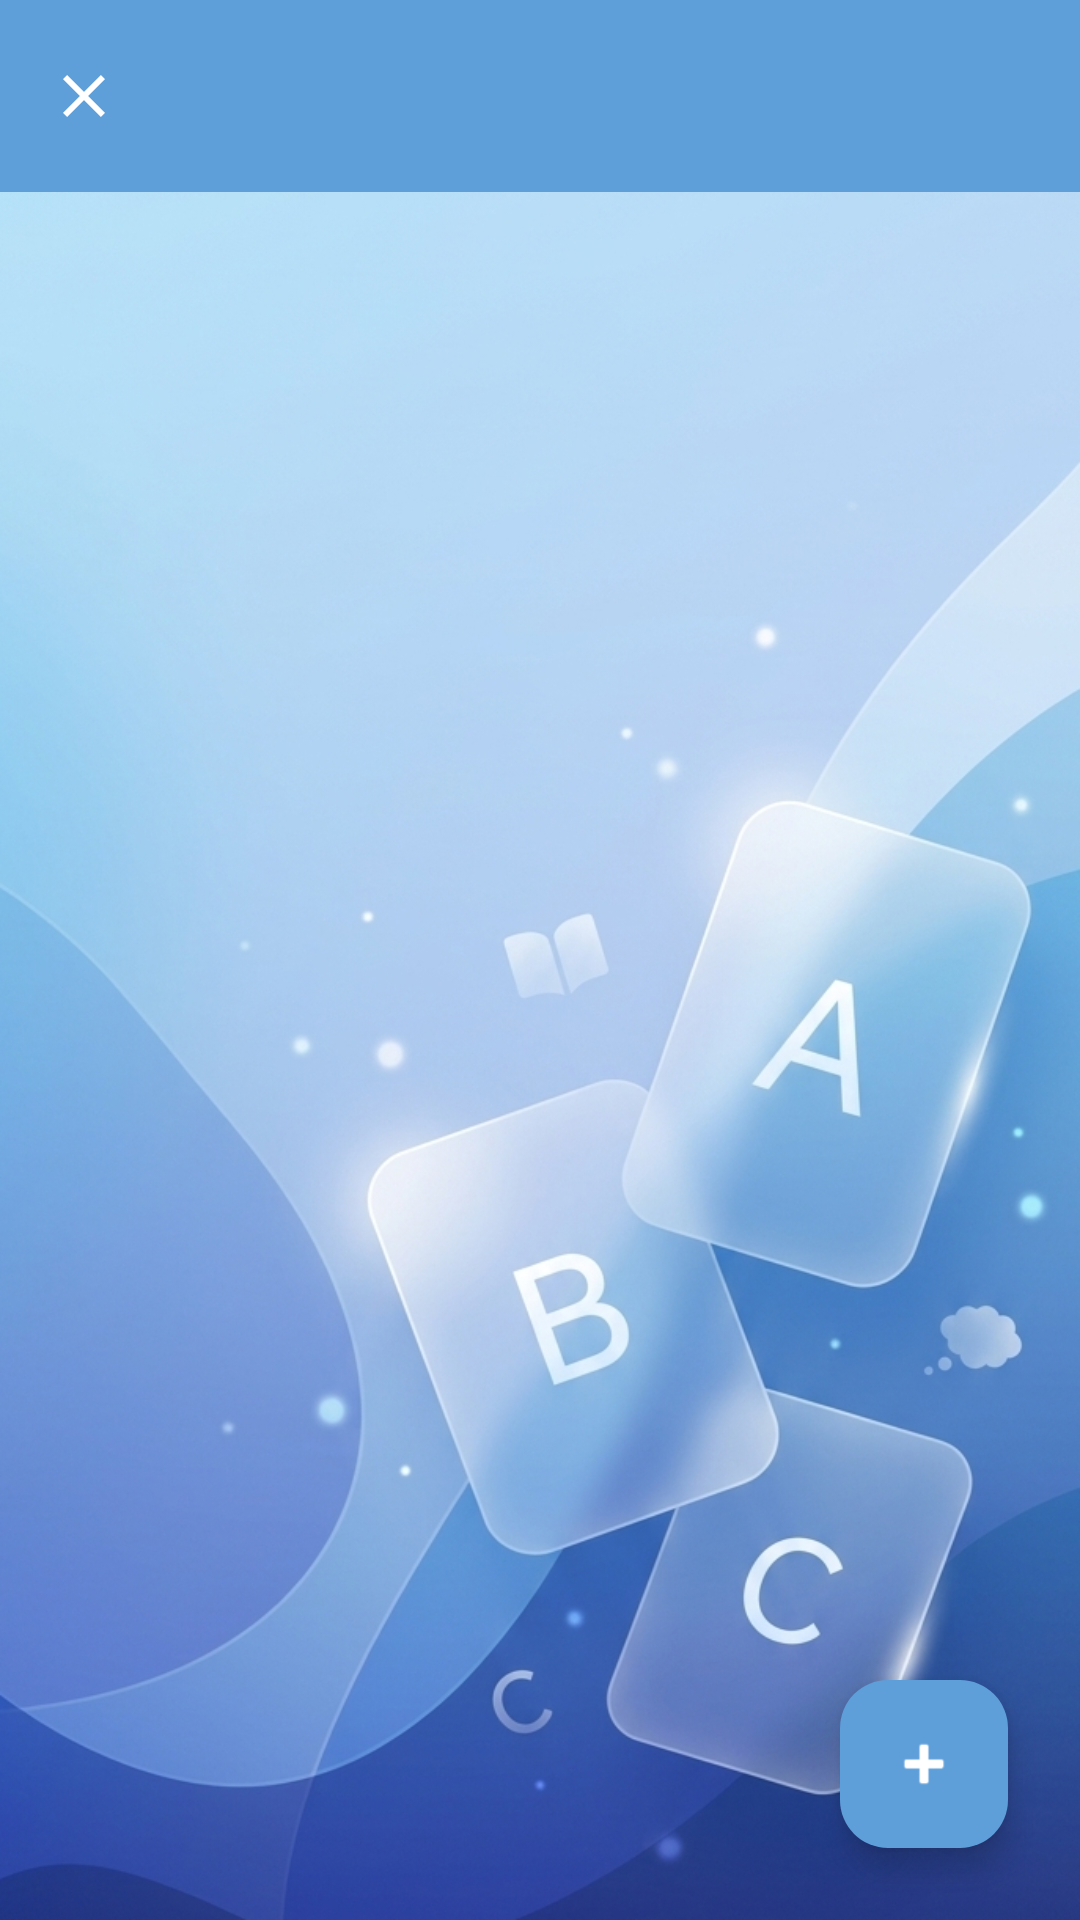

Where icons sit on this 1080w x 1920h app screen, as (x1, y1, x2, y2):
Create new deck: (840, 1680, 1008, 1848)
